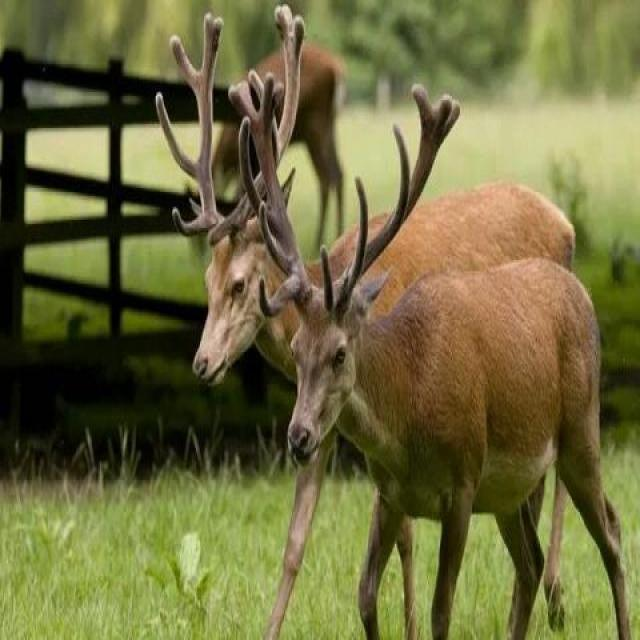deer: (192, 138, 630, 638)
